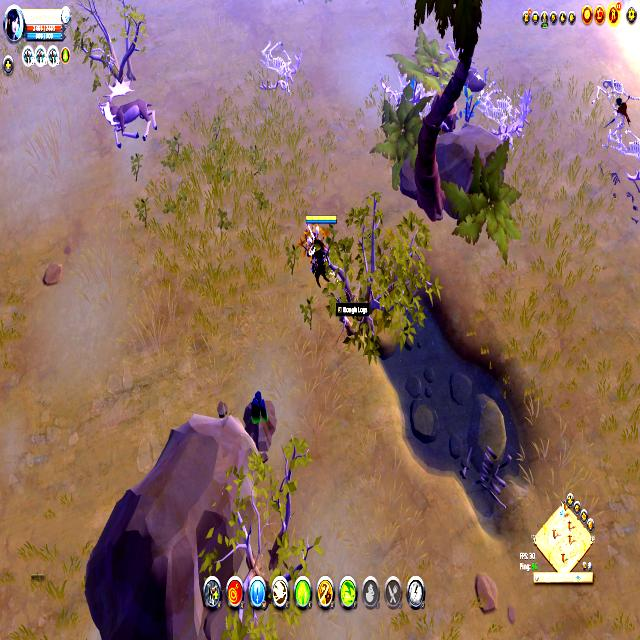mob: (94, 72, 160, 152), (460, 61, 491, 97)
ore: (604, 90, 632, 146)
player: (244, 386, 274, 435)
red: (304, 210, 336, 285)
